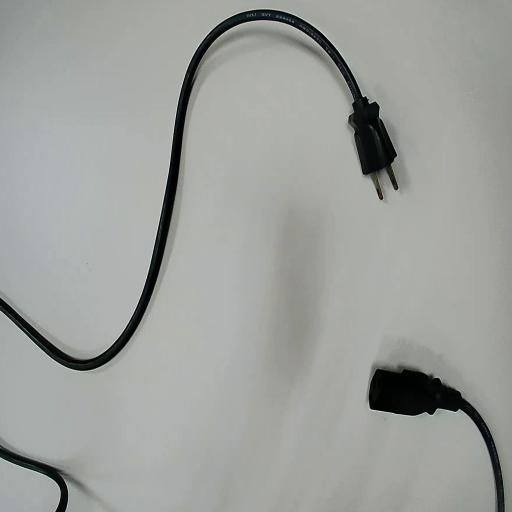wire: (0, 10, 396, 369), (369, 369, 503, 511)
